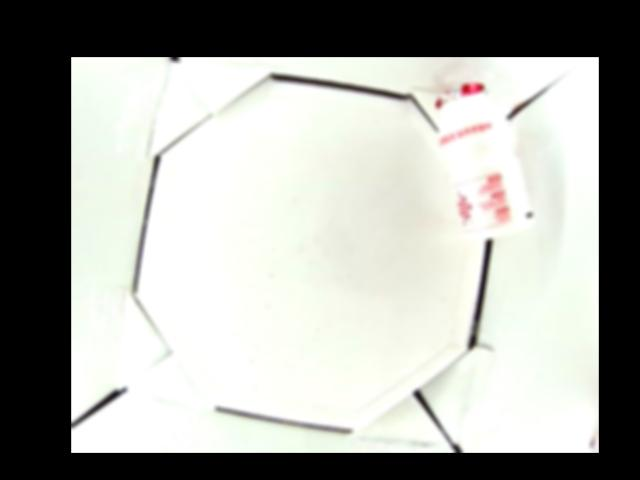Bottle: (432, 77, 535, 244)
